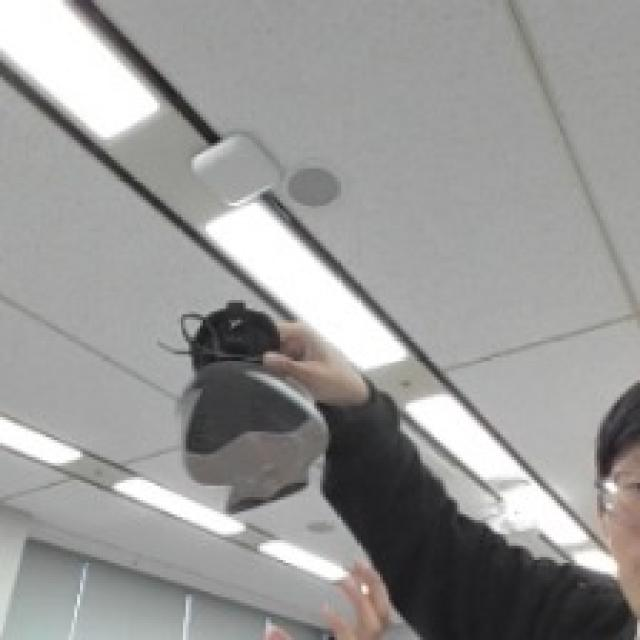shoe: (115, 229, 370, 550)
